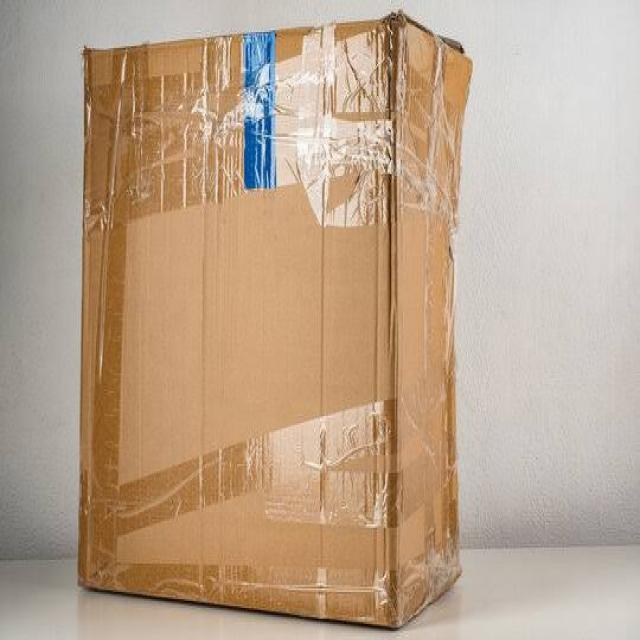cardboard: (63, 4, 513, 640)
